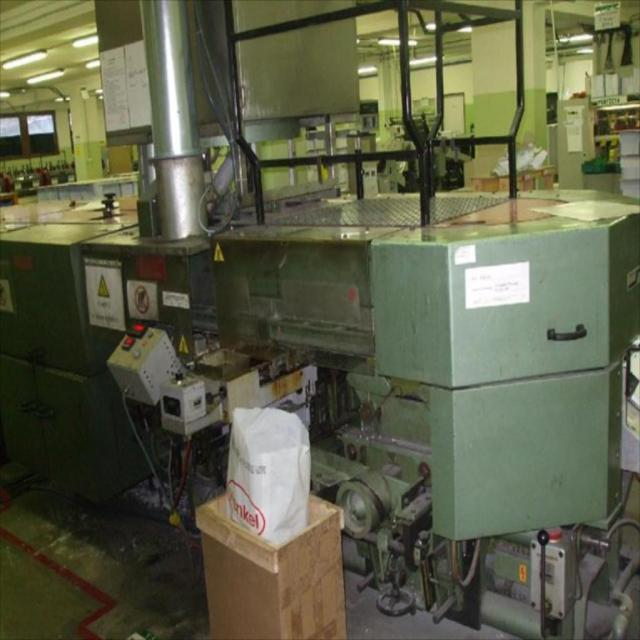Box: (191, 482, 350, 640)
